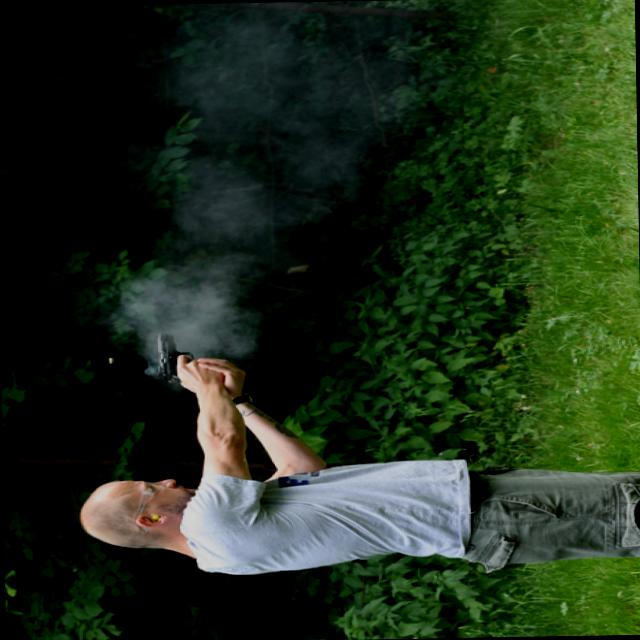handgun: (154, 330, 199, 390)
